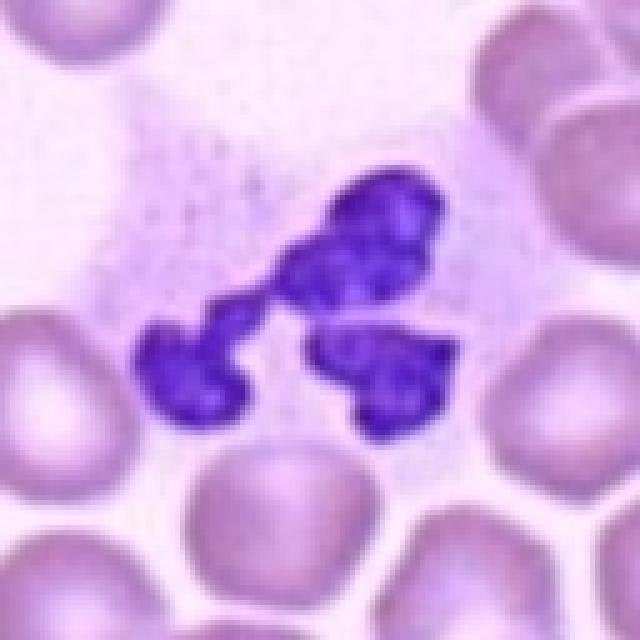neutro: (130, 37, 561, 493)
